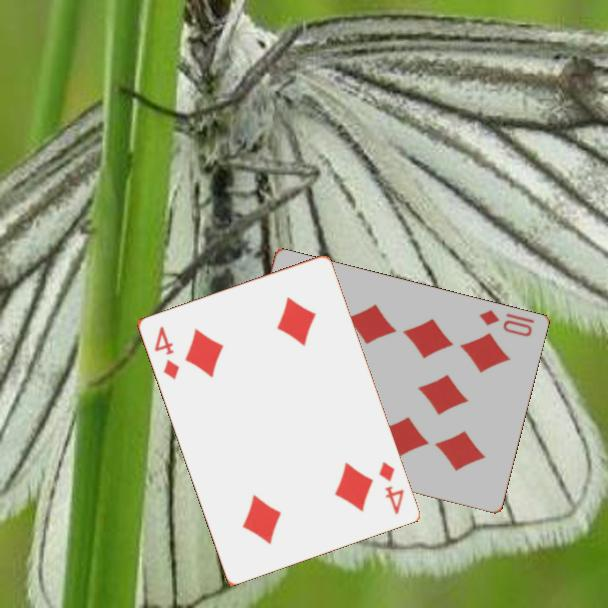d04: (150, 322, 182, 382), (375, 458, 406, 517)
d10: (475, 306, 537, 340)
